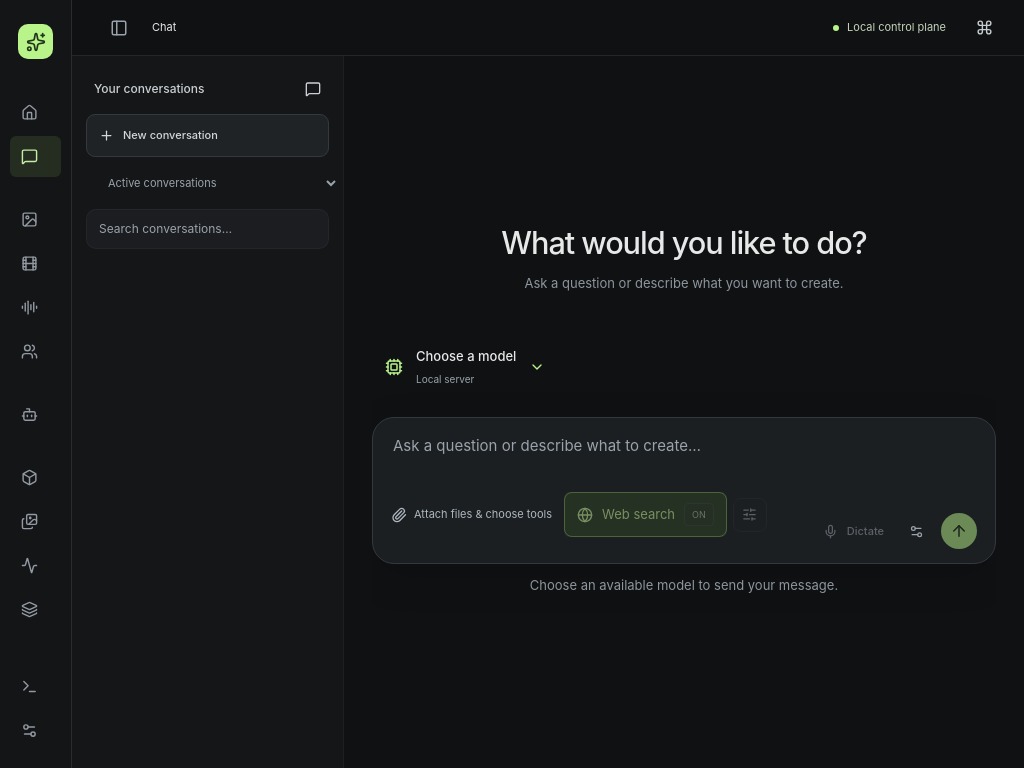
it: closing Advanced preserves expanded Chat navigation and returns focus
Click the button named "Expand navigation" at [119, 28], box [96, 8, 142, 46]
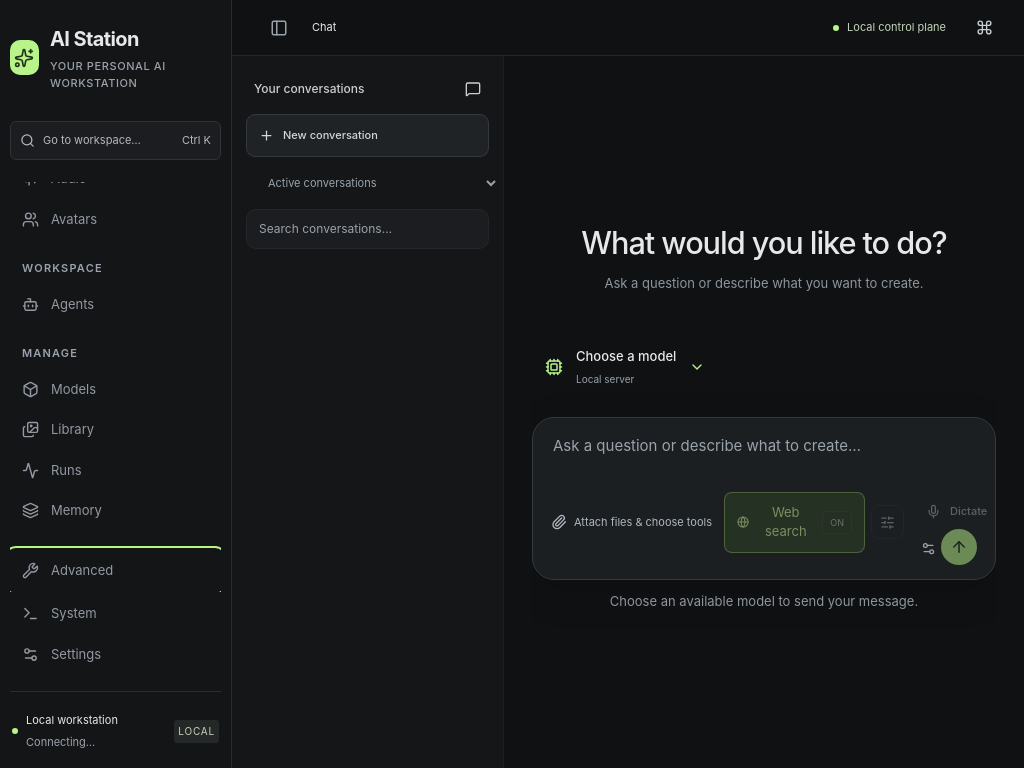
Click the button with aria-label "Advanced workspaces" at [116, 570], box [10, 552, 221, 589]
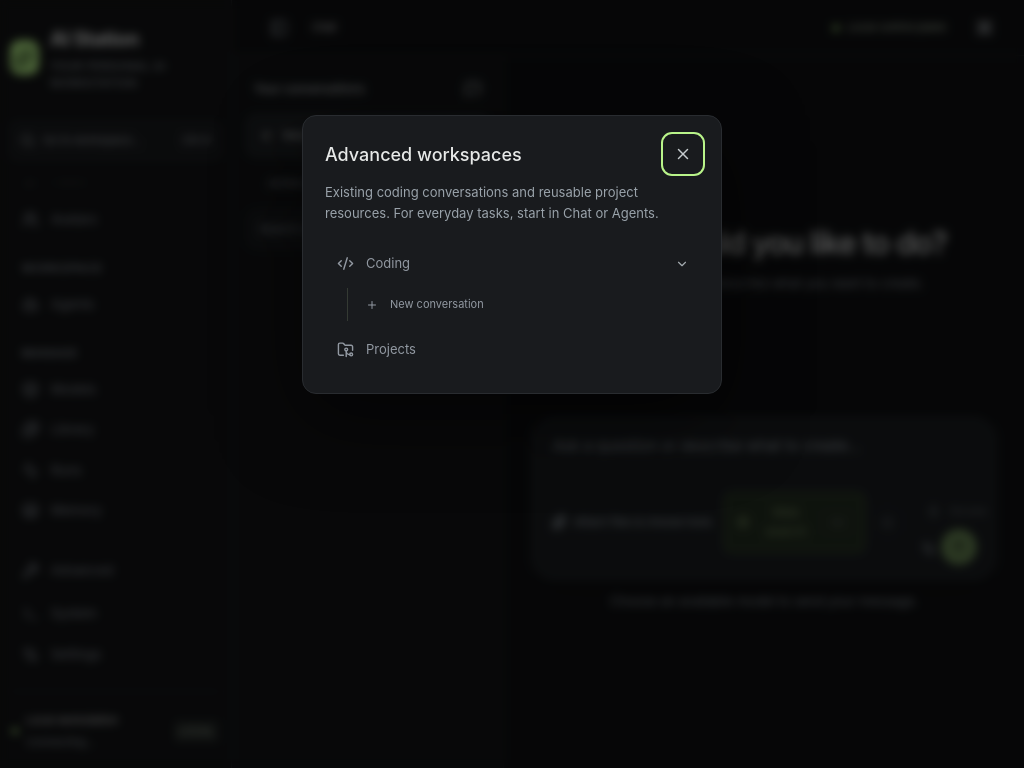
Expected: the dialog "Advanced workspaces" is shown, [302, 115, 722, 394]
Press k
Expected: the dialog "Advanced workspaces" is shown, [302, 115, 722, 394]
Press Escape
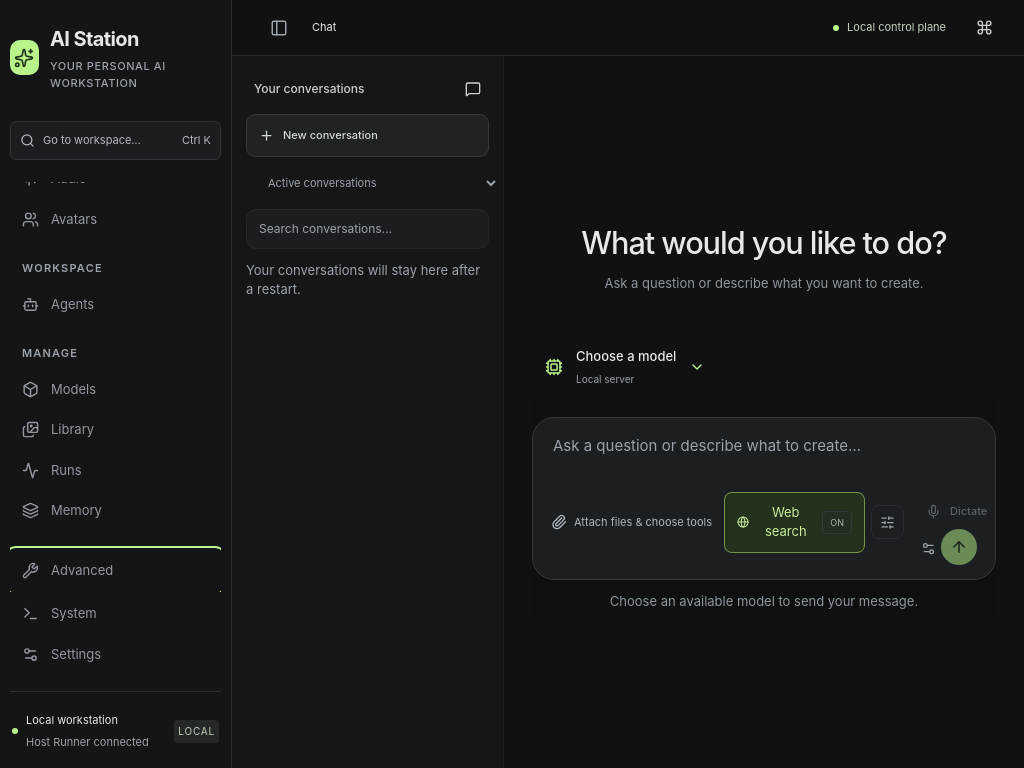
Expected: the button named "Collapse navigation" is expanded, [256, 8, 302, 46]
Expected: the dialog is gone
